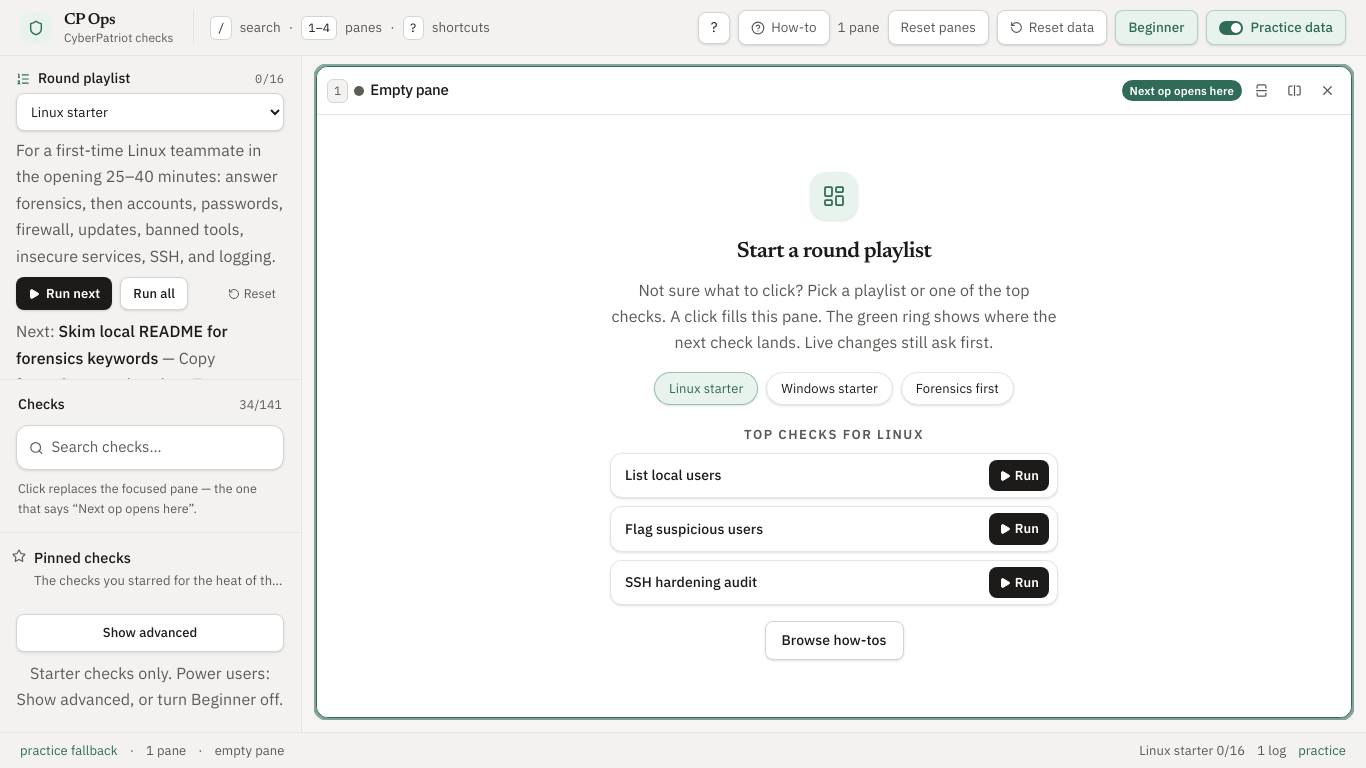
dashboard shell › hides advanced checks in beginner mode until Show advanced
The width and height of the screenshot is (1366, 768).
(page scrolled)
Click the button with test id "show-advanced" at (150, 633), box [16,614,284,652]
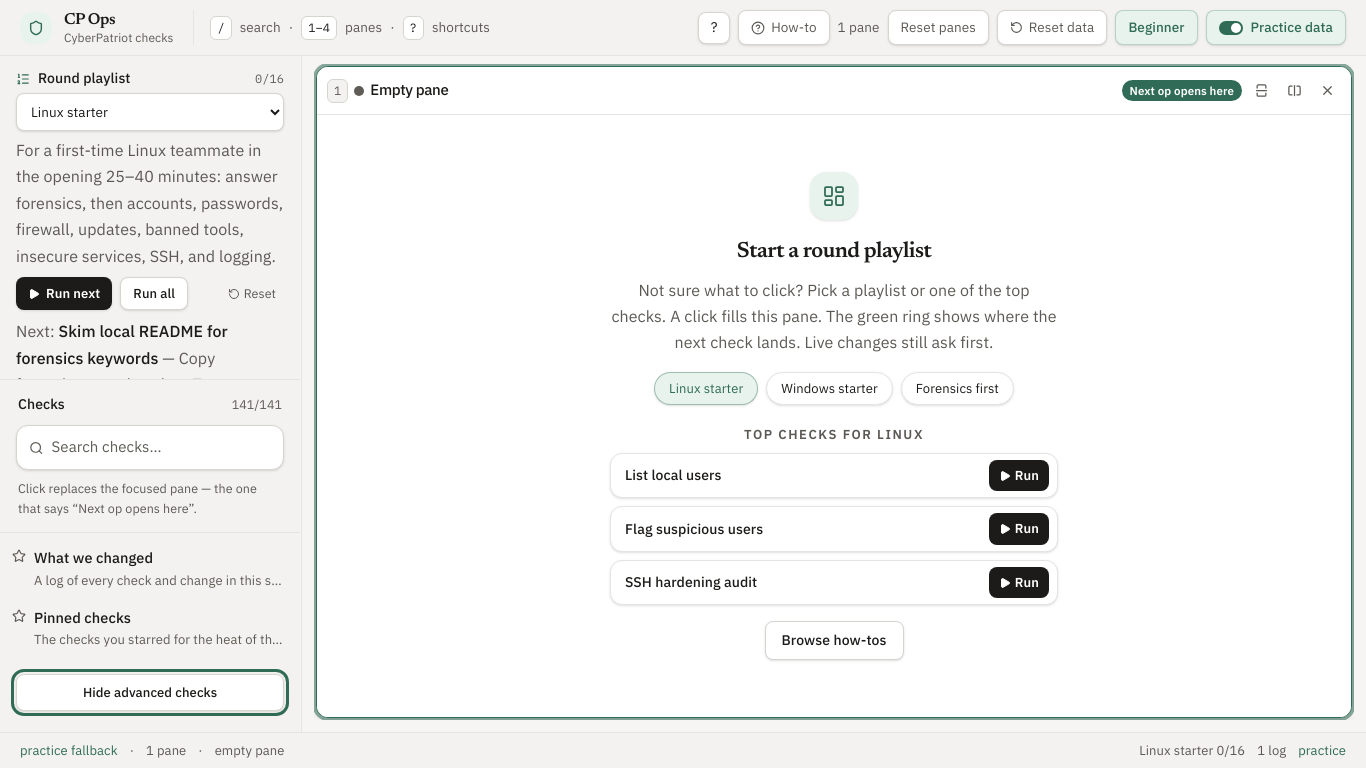
Click the switch with test id "beginner-toggle" at (1156, 28), box [1115,10,1198,45]
(page scrolled)
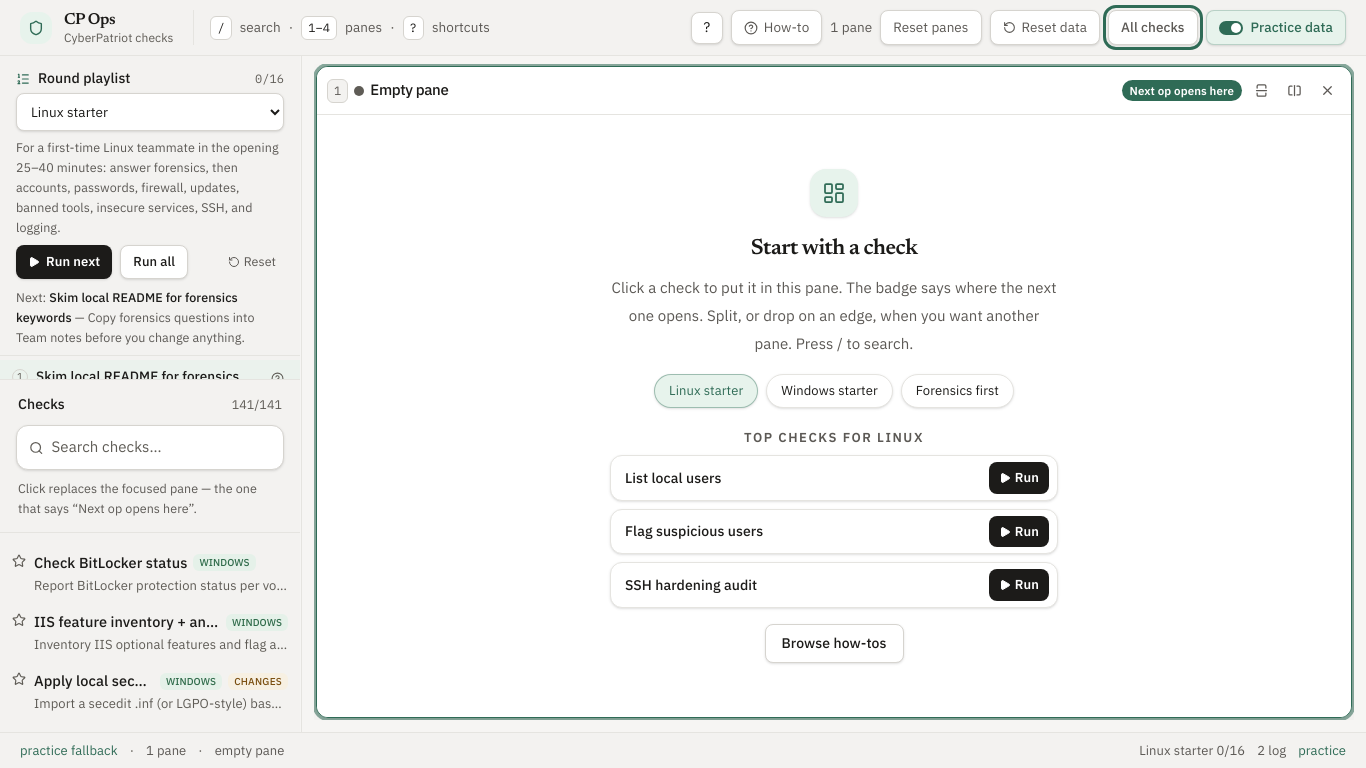
Check: the element with test id "catalog-item-audit-iis" is shown, box [0,603,300,662]
